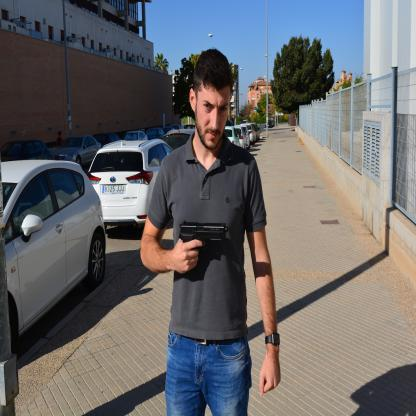pistol: (178, 219, 228, 250)
